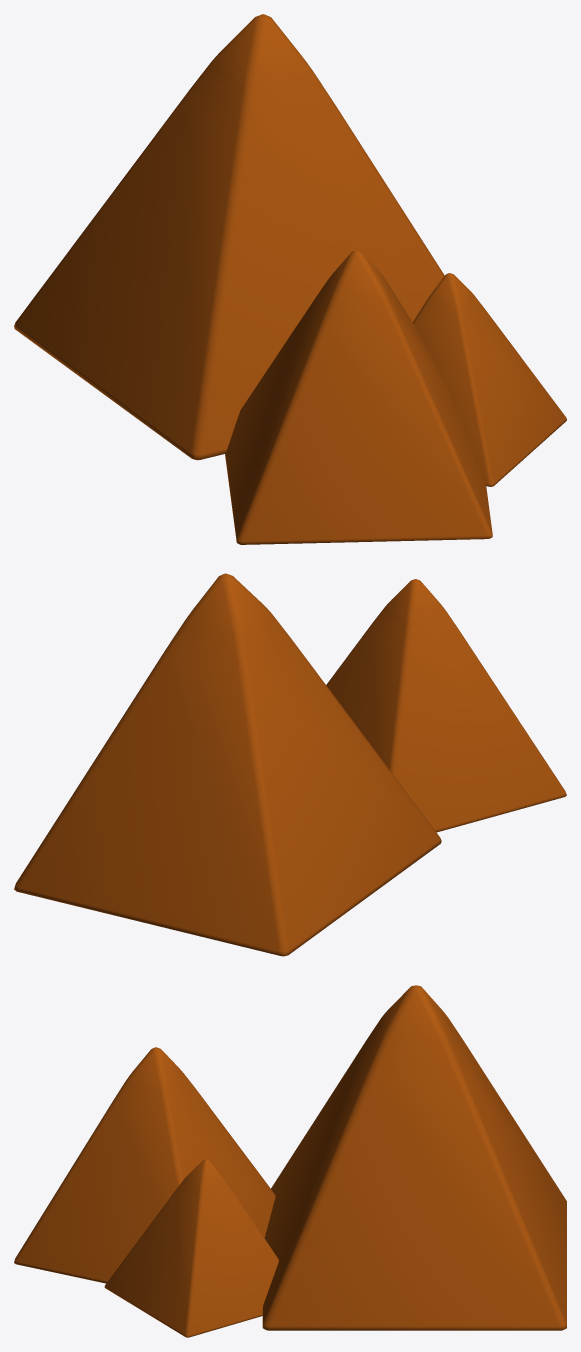
The model's file is bush-26_col.fbx.
3 renders of one model, top to bottom at view 1: azimuth 30°, elevation 25°; view 2: azimuth 150°, elevation 25°; view 3: azimuth 270°, elevation 25°, orthographic. The views are drawn at different scales.
Parts seen in each view (by area): view 1: bush-26.col; view 2: bush-26.col; view 3: bush-26.col.
Boxes of the visible parts, left/top/right/bottom form: bush-26.col: left=14, top=14, right=566, bottom=544; bush-26.col: left=14, top=573, right=566, bottom=956; bush-26.col: left=14, top=985, right=566, bottom=1337.
Bounding box in the file's own units: 0.1571 × 0.138 × 0.2415.
1 material, 1 textured.
